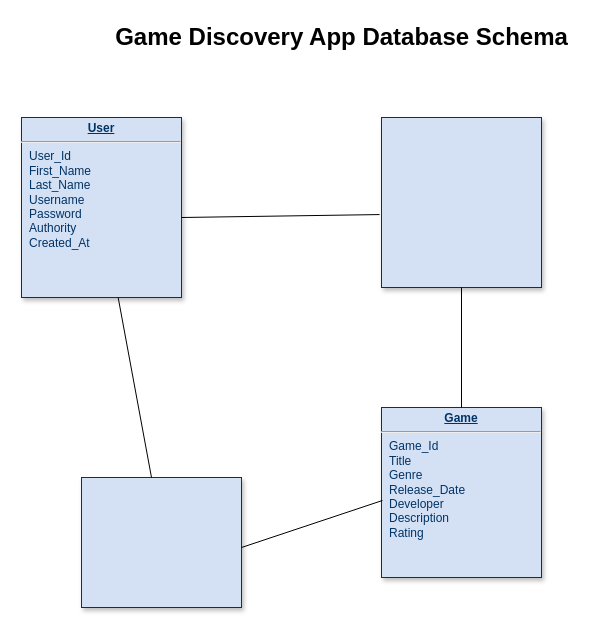
The diagram is 599 pixels wide and 632 high, and some of its shapes have lost their labels. The centre of each missing label's shape, as x and y in pixels:
"Review Review_Id Review_Title Username Game_Id Date_posted Review_body" goes at pixel 462 203.
"Wishlist Wishlist_Id Game_Id Username Date_Added" goes at pixel 162 543.
